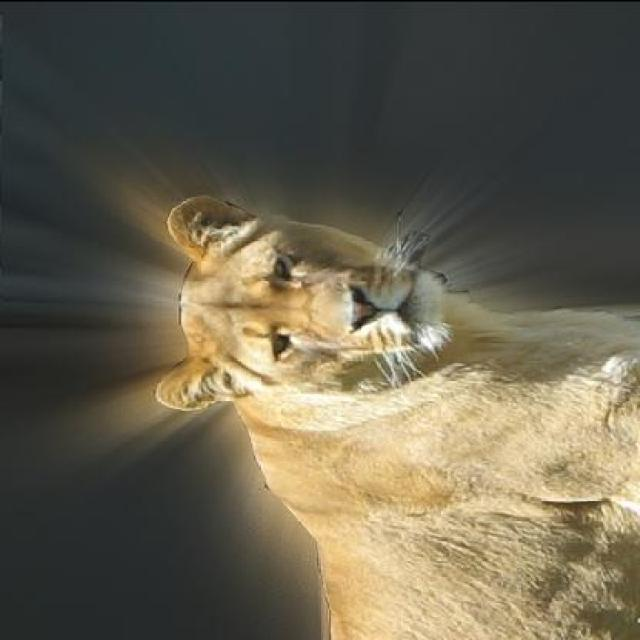Lion: (121, 151, 638, 638)
